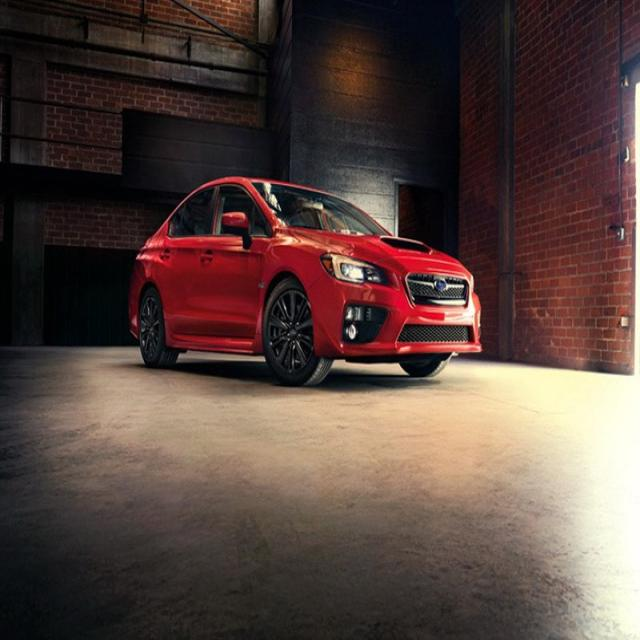door: (166, 190, 220, 342)
front_bumper: (306, 270, 482, 354)
front_glass: (250, 180, 390, 238)
front_right_side_door: (200, 182, 268, 344)
front_right_side_light: (320, 250, 387, 286)
front_right_side_mirror: (220, 210, 250, 243)
wheel: (263, 278, 328, 385), (138, 289, 170, 363)
